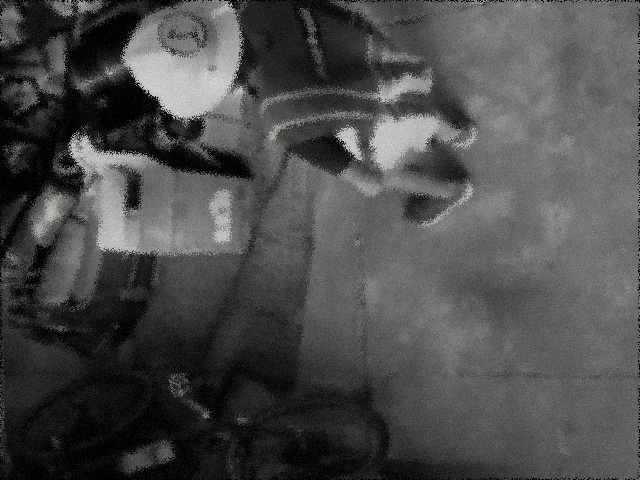one: (159, 14, 204, 55)
